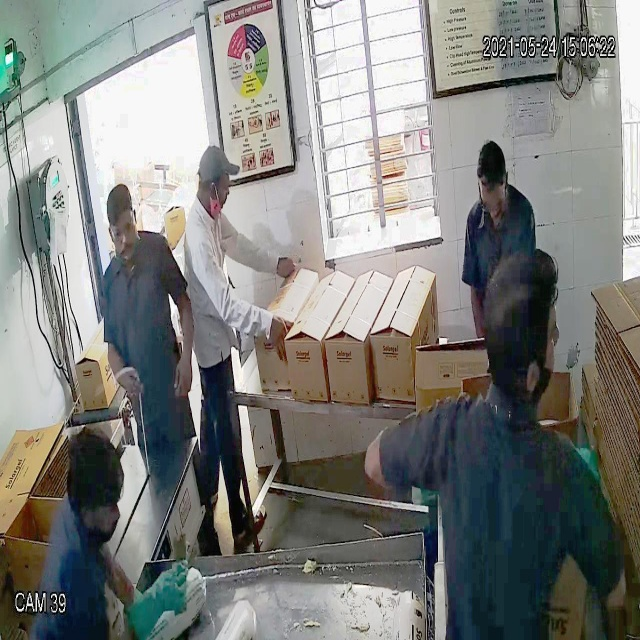Gafas: (107, 217, 136, 244)
